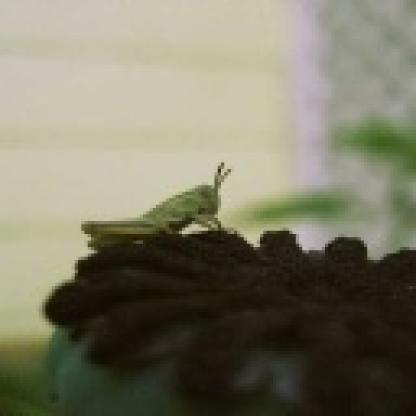grasshopper: (80, 157, 243, 258)
